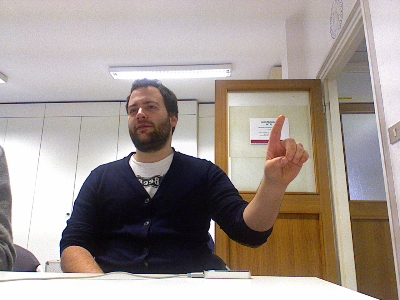食指: (262, 114, 309, 186)
